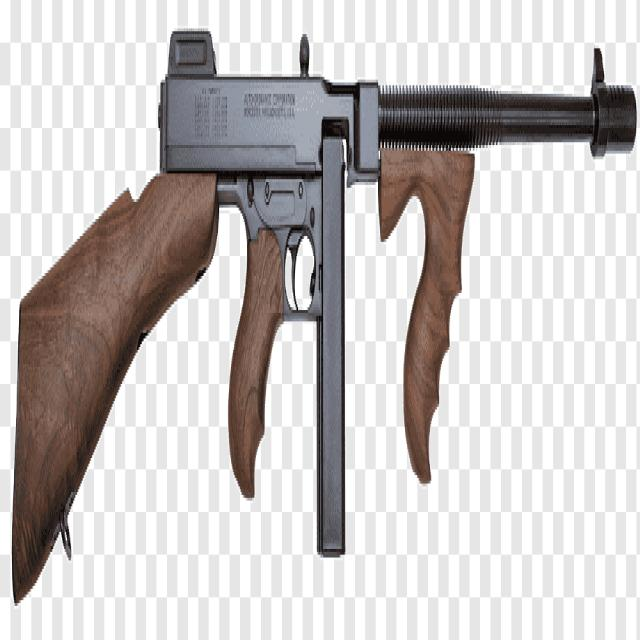firearm: (12, 26, 636, 608)
